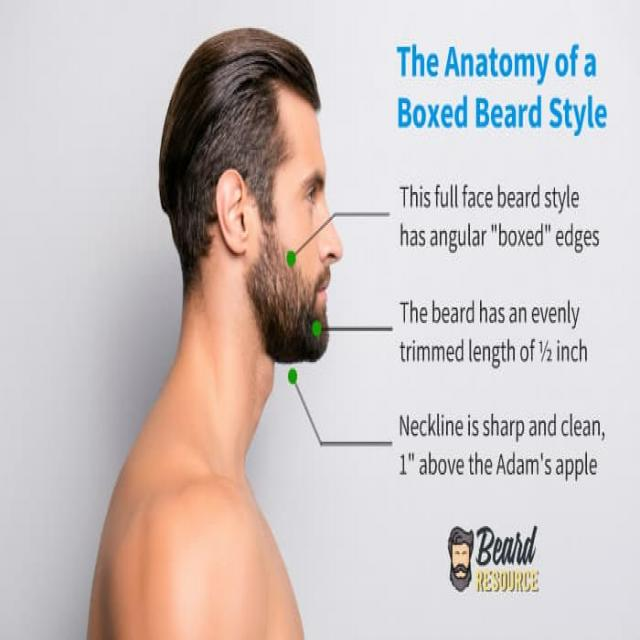beard: (248, 229, 331, 363)
hair: (159, 27, 321, 290)
